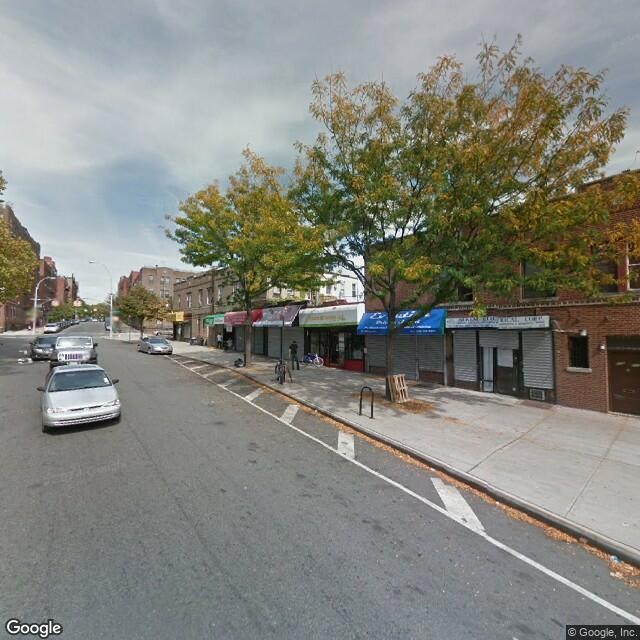litter: (609, 554, 618, 566)
